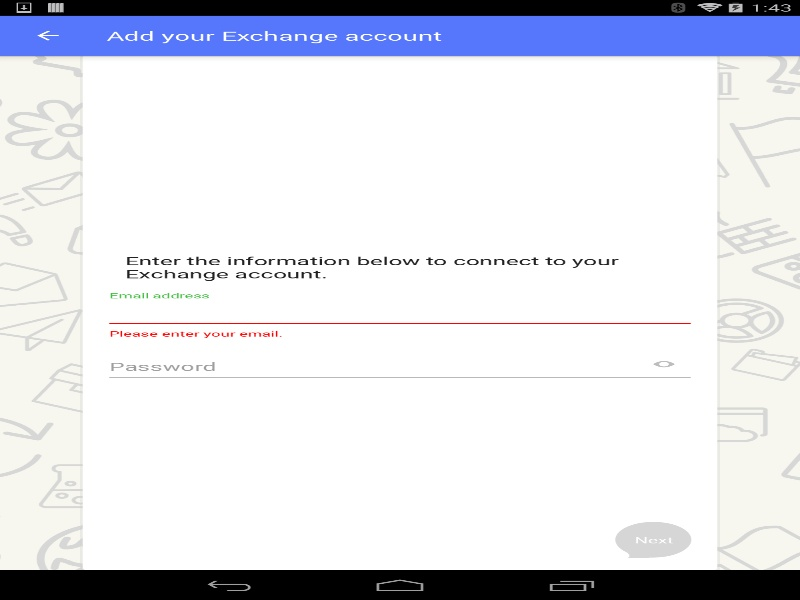Button: (10, 15, 85, 55)
Input: (104, 298, 696, 328), (104, 352, 696, 382)
